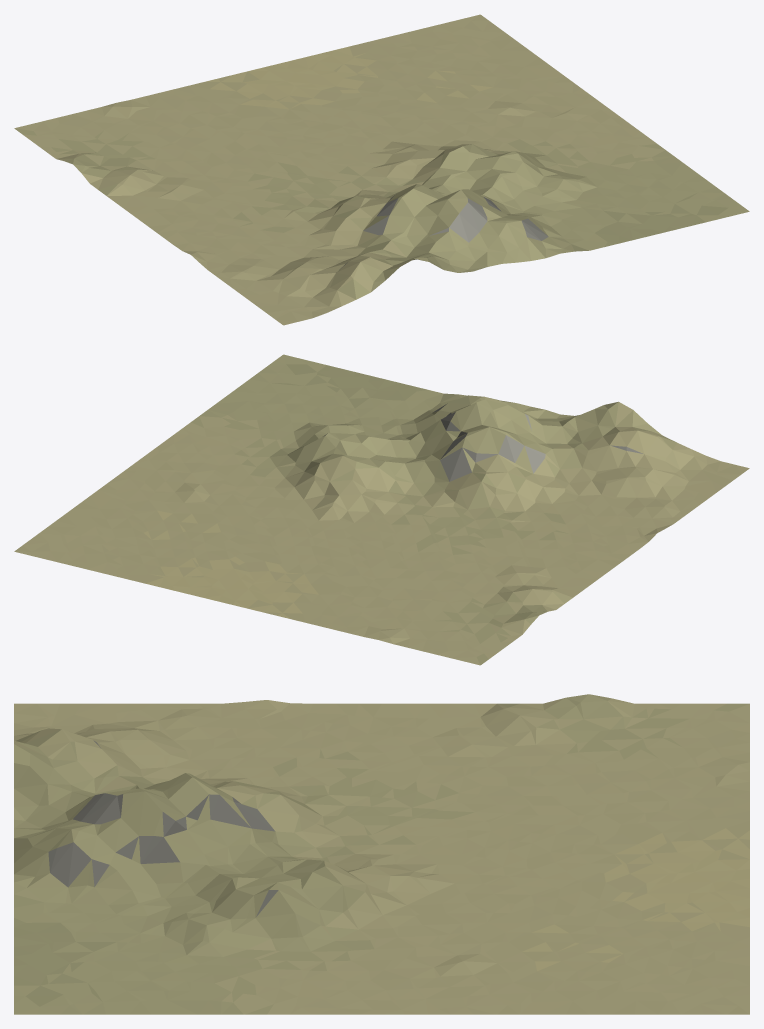
The model's file is Ground_1_-8.glb.
The picture shows the model from 3 angles, top to bottom: view 1: azimuth 30°, elevation 25°; view 2: azimuth 150°, elevation 25°; view 3: azimuth 270°, elevation 25°; orthographic projection. The views are drawn at different scales.
Visible parts, largest first — view 1: Ground_1_-8; view 2: Ground_1_-8; view 3: Ground_1_-8.
Boxes of the visible parts, x1,y1,x2,y2 form: Ground_1_-8: [14, 14, 749, 325]; Ground_1_-8: [14, 354, 749, 665]; Ground_1_-8: [14, 694, 749, 1014].
Size of the model in its own units: 768 by 72.17 by 768.
